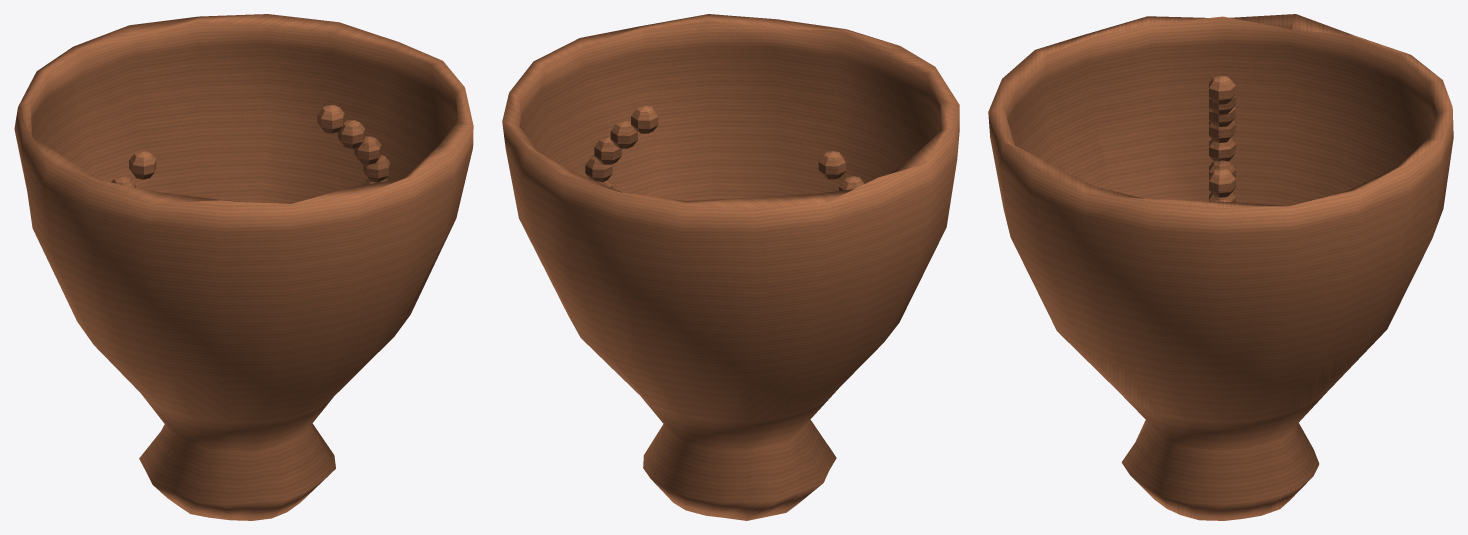
File: krater.glb
3 renders of one model, left to right at view 1: azimuth 30°, elevation 25°; view 2: azimuth 150°, elevation 25°; view 3: azimuth 270°, elevation 25°, orthographic.
Visible parts, largest first — view 1: krater; view 2: krater; view 3: krater.
Boxes of the visible parts, bbox=[...] form: krater: bbox=[14, 14, 473, 520]; krater: bbox=[502, 14, 959, 520]; krater: bbox=[988, 14, 1453, 520].
Bounding box in the file's own units: 0.5959 × 0.5461 × 0.5913.
Materials: 1 (1 with a texture image).
